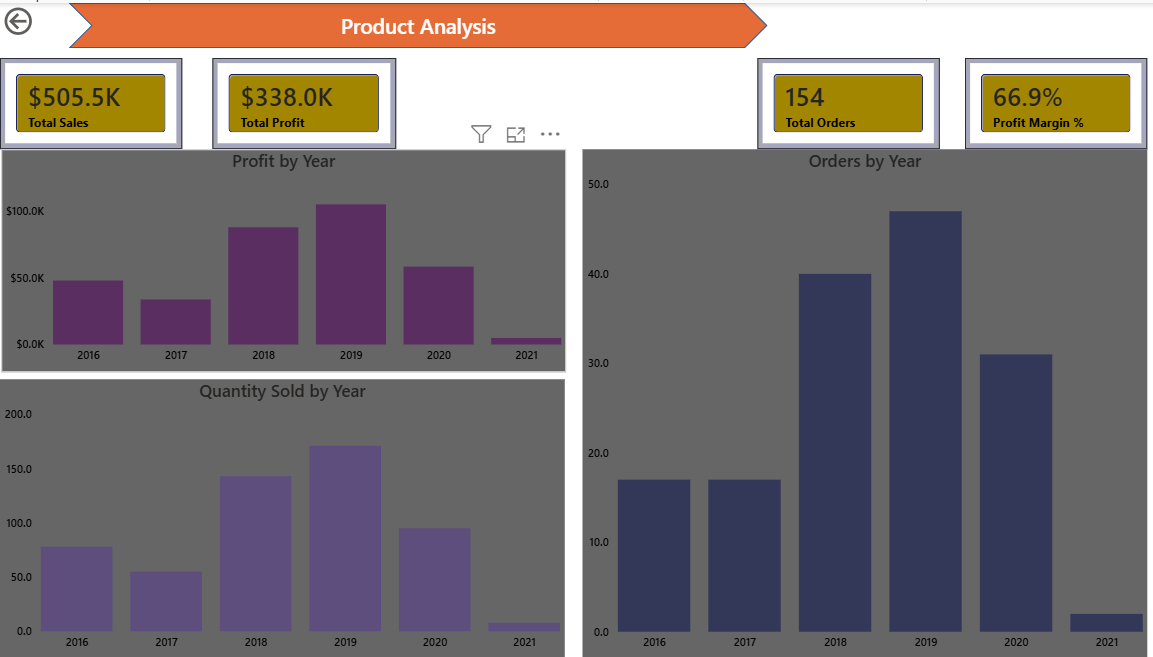

The page's visual inventory and layout, read from the dashboard file:
{"tool":"powerbi","page":{"name":"Product Analysis","canvas":[1280,720],"ordinal":2},"visuals":[{"type":"actionButton","box":[0,0,100,40],"z":0},{"type":"cardVisual","title":"Total Sales","fields":{"Data":["Sales.Total Sales"]},"box":[0,60.4,200.3,100.2],"z":1000},{"type":"cardVisual","title":"Total profit","fields":{"Data":["Sales.Total Profit"]},"box":[233.3,60.4,201.7,100.2],"z":2000},{"type":"cardVisual","title":"Total Orders","fields":{"Data":["Sales.Total Orders"]},"box":[831.6,60.4,200.3,100.2],"z":3000},{"type":"cardVisual","title":"Profit Margin","fields":{"Data":["Sales.Profit Margin %"]},"box":[1059.4,60.4,200.3,100.2],"z":4000},{"type":"clusteredColumnChart","title":"Quantity Sold by Year","fields":{"Category":["DateTable.Year"],"Y":["Sales.Total Quantity"]},"box":[0,413.3,620,306.9],"z":5000},{"type":"clusteredColumnChart","title":"Orders by Year","fields":{"Category":["DateTable.Year"],"Y":["Sales.Total Orders"]},"box":[639.5,160.5,620.2,559.9],"z":6000},{"type":"clusteredColumnChart","title":"Profit by Year","fields":{"Category":["DateTable.Year"],"Y":["Sales.Total Profit"]},"box":[1.2,160.2,620,244.6],"z":7000},{"type":"shape","box":[75.5,0,767.1,49.4],"z":8000}]}

Visuals, with their boxes in screenshot pixels (x1, y1, x2, y2), scaled from the page's 1280x720 canvas onto the 1153x657 screenshot:
actionButton: select_region(0, 0, 90, 36)
"Total Sales" cardVisual: select_region(0, 55, 180, 147)
"Total profit" cardVisual: select_region(210, 55, 392, 147)
"Total Orders" cardVisual: select_region(749, 55, 930, 147)
"Profit Margin" cardVisual: select_region(954, 55, 1135, 147)
"Quantity Sold by Year" clusteredColumnChart: select_region(0, 377, 558, 656)
"Orders by Year" clusteredColumnChart: select_region(576, 146, 1135, 656)
"Profit by Year" clusteredColumnChart: select_region(1, 146, 560, 369)
shape: select_region(68, 0, 759, 45)
